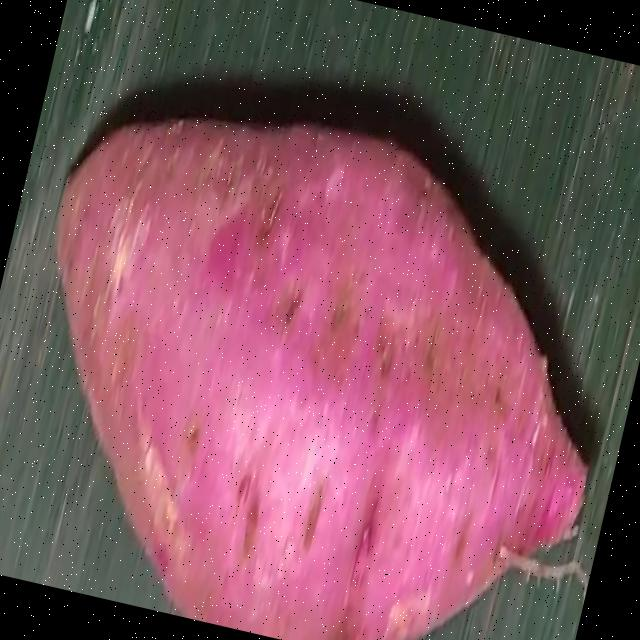Sweet Potato: (51, 114, 586, 640)
